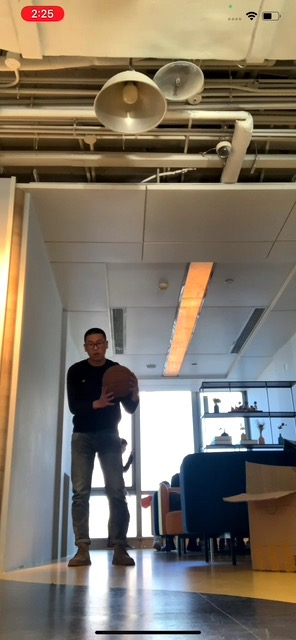ball: (101, 363, 137, 401)
